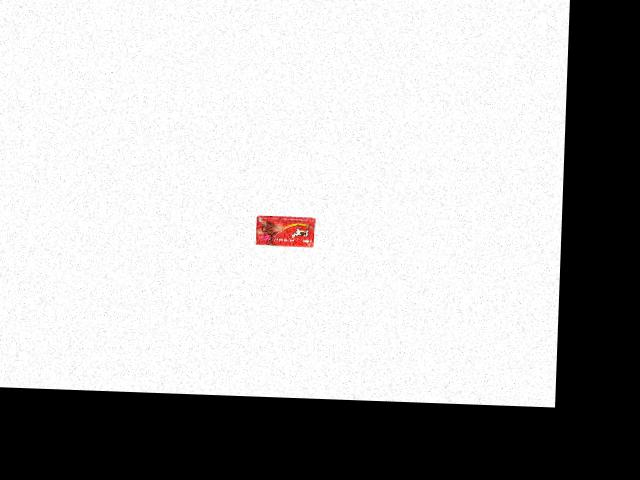chocolate: (255, 212, 318, 247)
